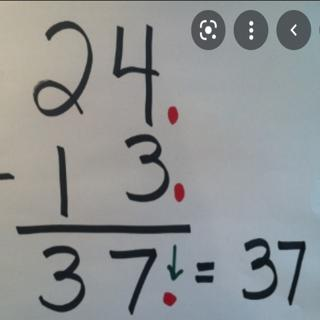.: (162, 100, 182, 127), (170, 183, 191, 204)
1: (54, 144, 69, 220)
2: (34, 20, 92, 118)
3: (38, 243, 87, 313), (123, 133, 171, 202), (238, 238, 280, 302)
4: (113, 21, 157, 128)
7: (111, 247, 159, 317), (275, 241, 308, 304)
